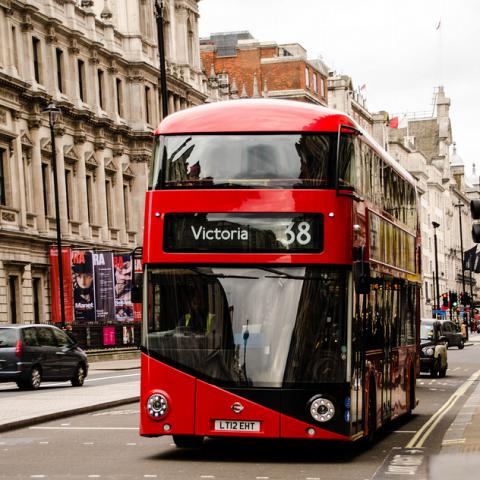bus: (126, 81, 434, 449)
car: (0, 323, 90, 391), (420, 317, 449, 377), (438, 320, 465, 349)
